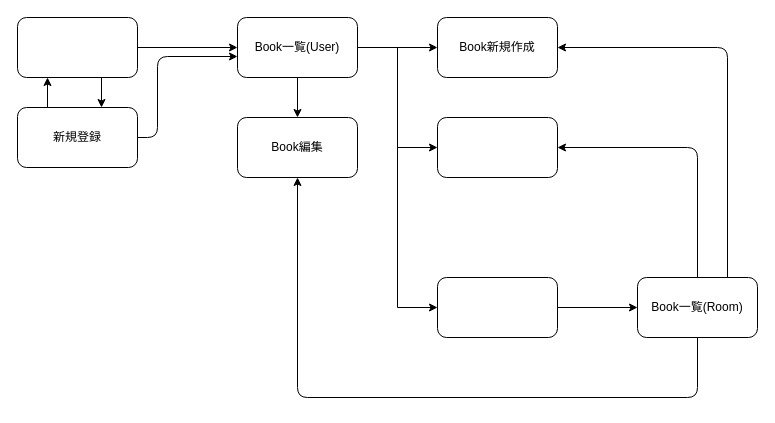
This 775x423 diagram has some shape labels left out. The centre of each missing label's shape, as x and y in pixels:
Book表示 (Note編集): the point at 497,147
Room作成: the point at 497,307
ログイン: the point at 77,47
